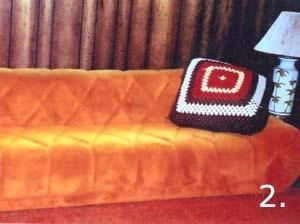sofa: (1, 67, 300, 211)
